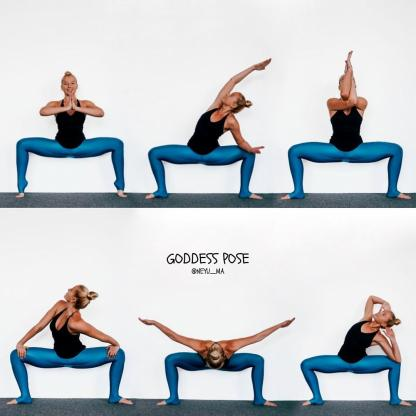godness: (138, 276, 299, 412), (282, 49, 413, 206), (141, 54, 276, 204), (7, 60, 135, 205), (5, 276, 136, 413), (300, 275, 416, 413)
